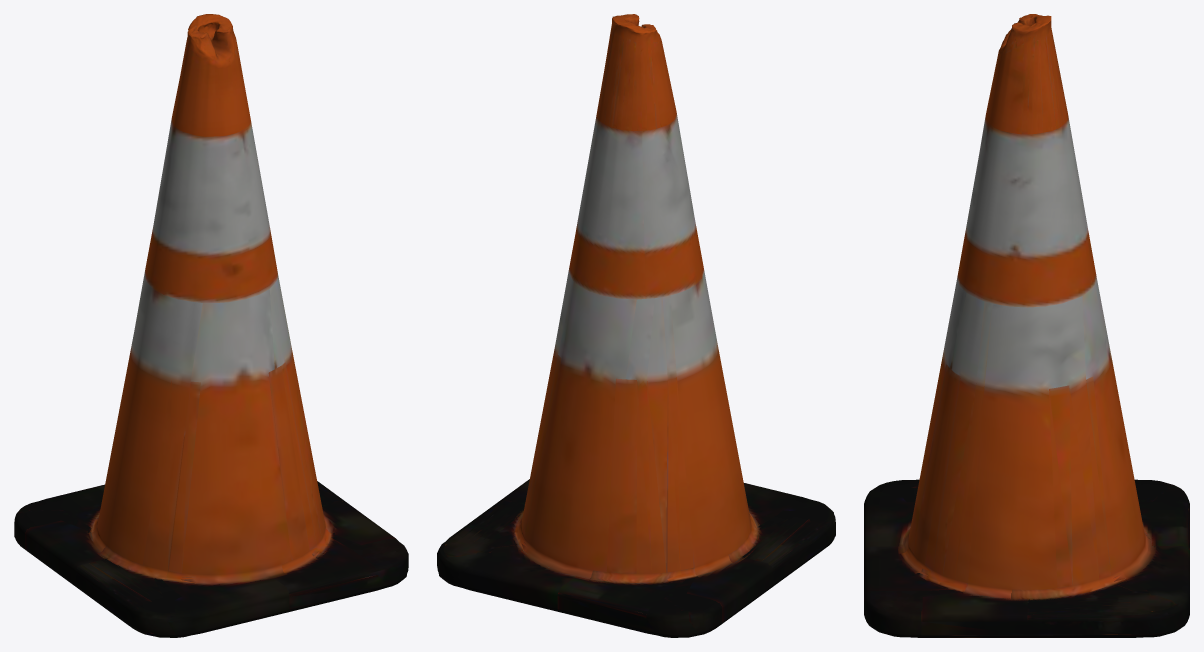
File: prop-cone.glb
3 renders of one model, left to right at view 1: azimuth 30°, elevation 25°; view 2: azimuth 150°, elevation 25°; view 3: azimuth 270°, elevation 25°, orthographic. The views are drawn at different scales.
Visible parts, largest first — view 1: Traffic cone; view 2: Traffic cone; view 3: Traffic cone.
Part boxes in pixels (left/top/right/bottom): Traffic cone: left=14, top=14, right=408, bottom=637; Traffic cone: left=437, top=14, right=835, bottom=637; Traffic cone: left=864, top=14, right=1189, bottom=637.
Size of the model in its own units: 0.5332 by 0.998 by 0.5332.
Materials: 1 (1 with a texture image).
